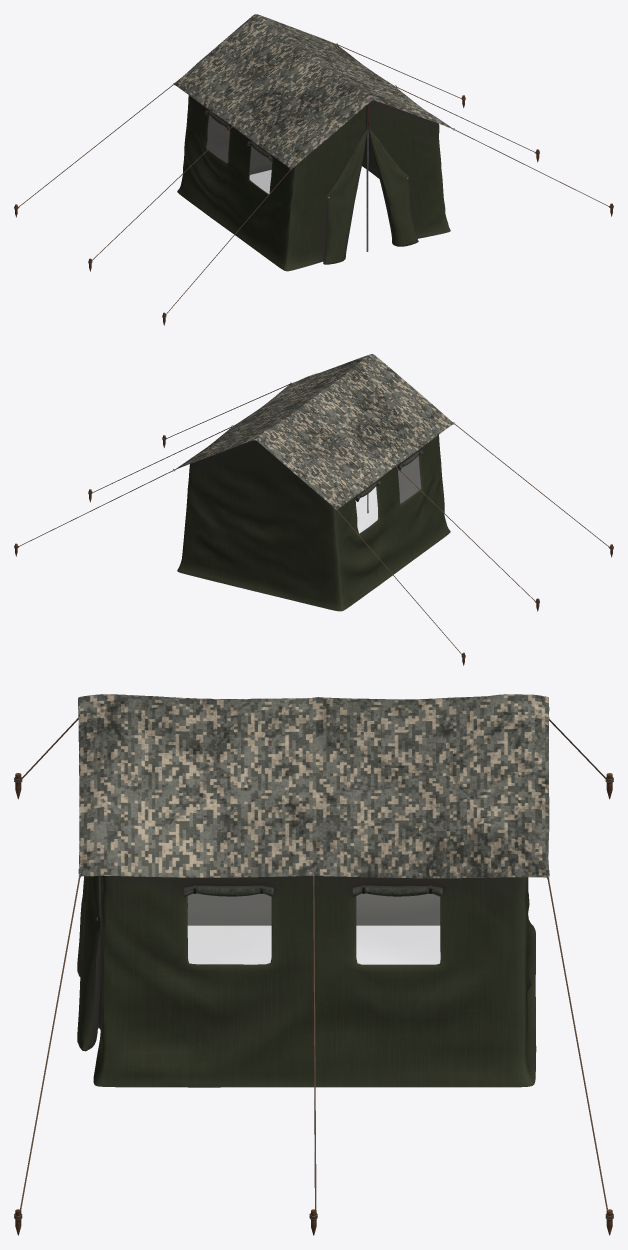
File: tent_20_mb.glb
3 renders of one model, top to bottom at view 1: azimuth 30°, elevation 25°; view 2: azimuth 150°, elevation 25°; view 3: azimuth 270°, elevation 25°, orthographic. The views are drawn at different scales.
Parts seen in each view (by area): view 1: Base, Roof, glass; view 2: Base, Roof, glass; view 3: Base, Roof, glass.
Part boxes in pixels (<box>): Base: <box>14,43,613,325</box>; Roof: <box>19,14,608,313</box>; glass: <box>207,115,271,193</box>; Base: <box>14,382,613,665</box>; Roof: <box>19,354,608,653</box>; glass: <box>356,455,421,533</box>; Base: <box>14,717,613,1235</box>; Roof: <box>19,694,608,1209</box>; glass: <box>188,893,440,964</box>.
Size of the model in its own units: 11.17 by 3.81 by 6.43.
3 materials, 3 textured.
